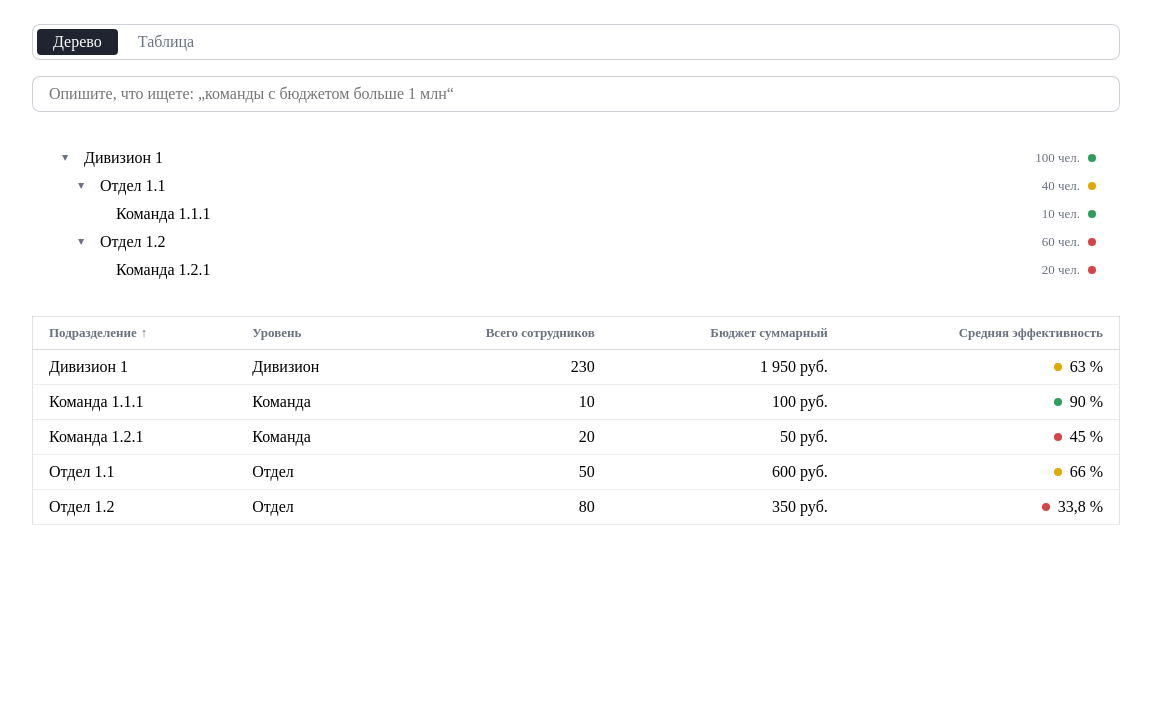
OrgDashboard AI-поиск › распознанный запрос: подпись «распознано», строки сужены, дерево приглушено
Type "эффективность выше 55" into the search field named "Фильтр по названию" at [576, 94], box [32,76,1120,112]
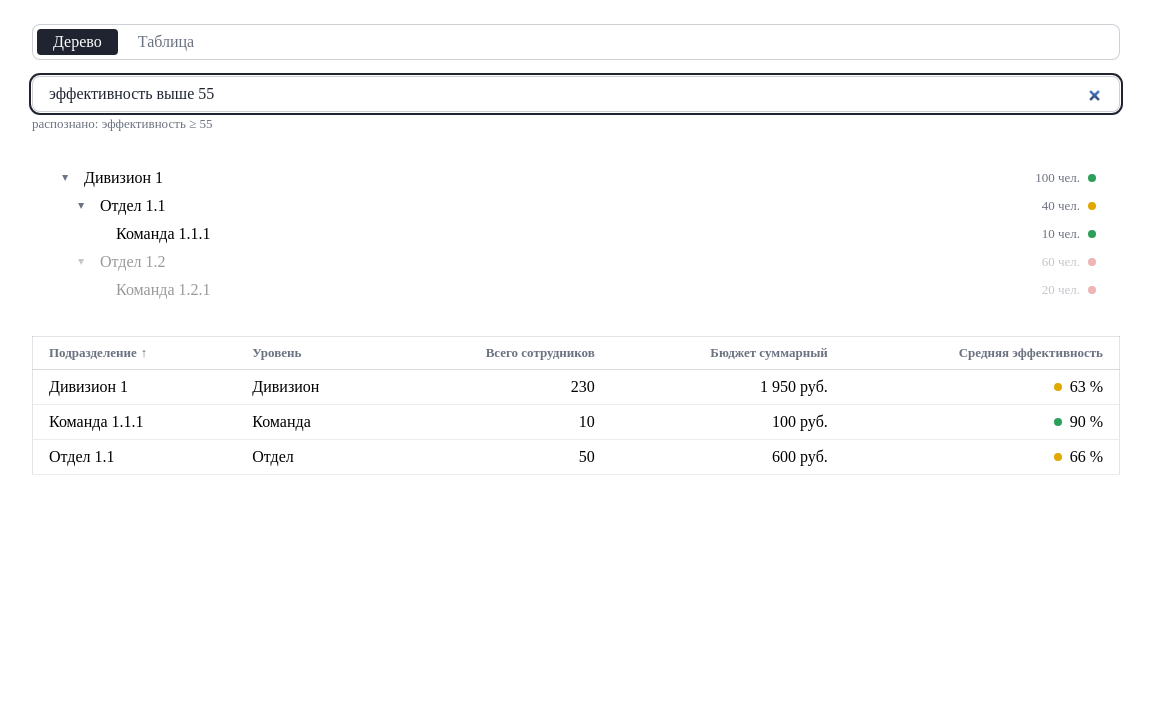
Expected: the text "распознано: эффективность ≥ 55" is shown, [32,116,212,131]
